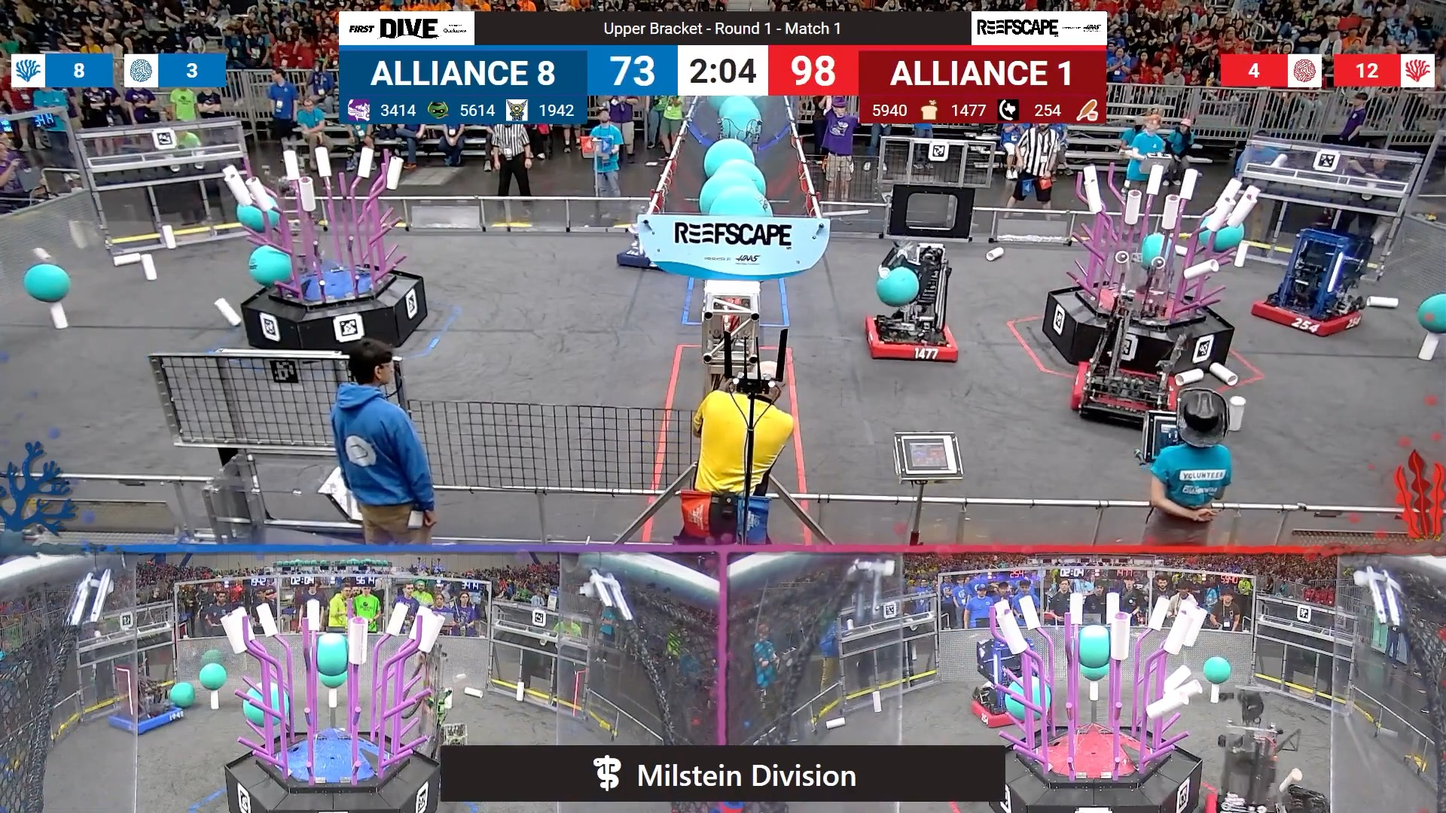bumpers: (1063, 359, 1180, 425), (855, 315, 967, 373), (1242, 292, 1370, 340), (102, 700, 191, 740), (1202, 785, 1314, 813), (965, 694, 1048, 731), (611, 245, 670, 274)
